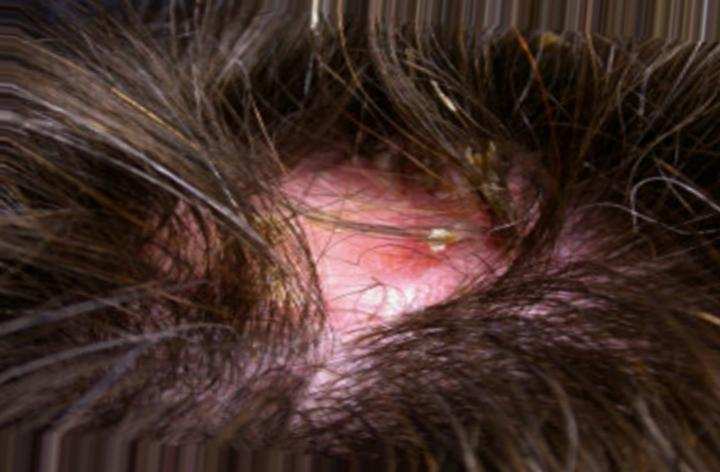Folliculitis: (232, 151, 507, 381)
